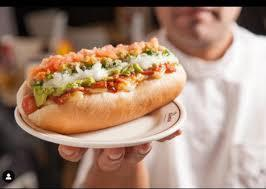Completos: (12, 31, 181, 130)
